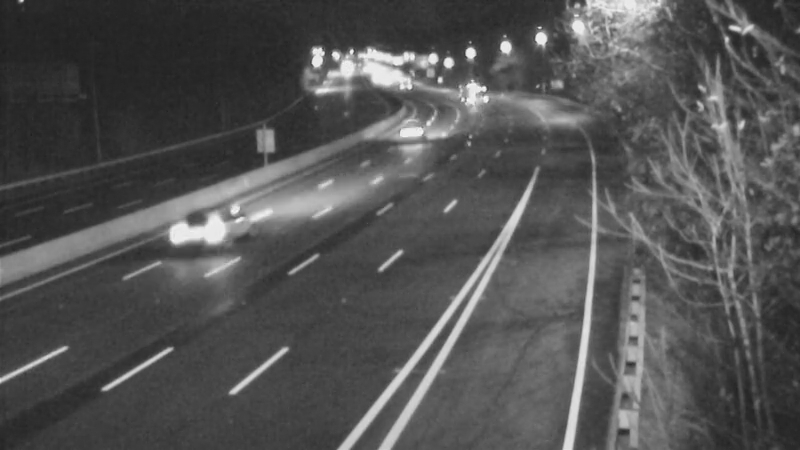vehicle: (157, 184, 237, 264), (445, 58, 495, 108), (378, 54, 428, 104), (448, 68, 498, 118), (396, 99, 446, 149)
